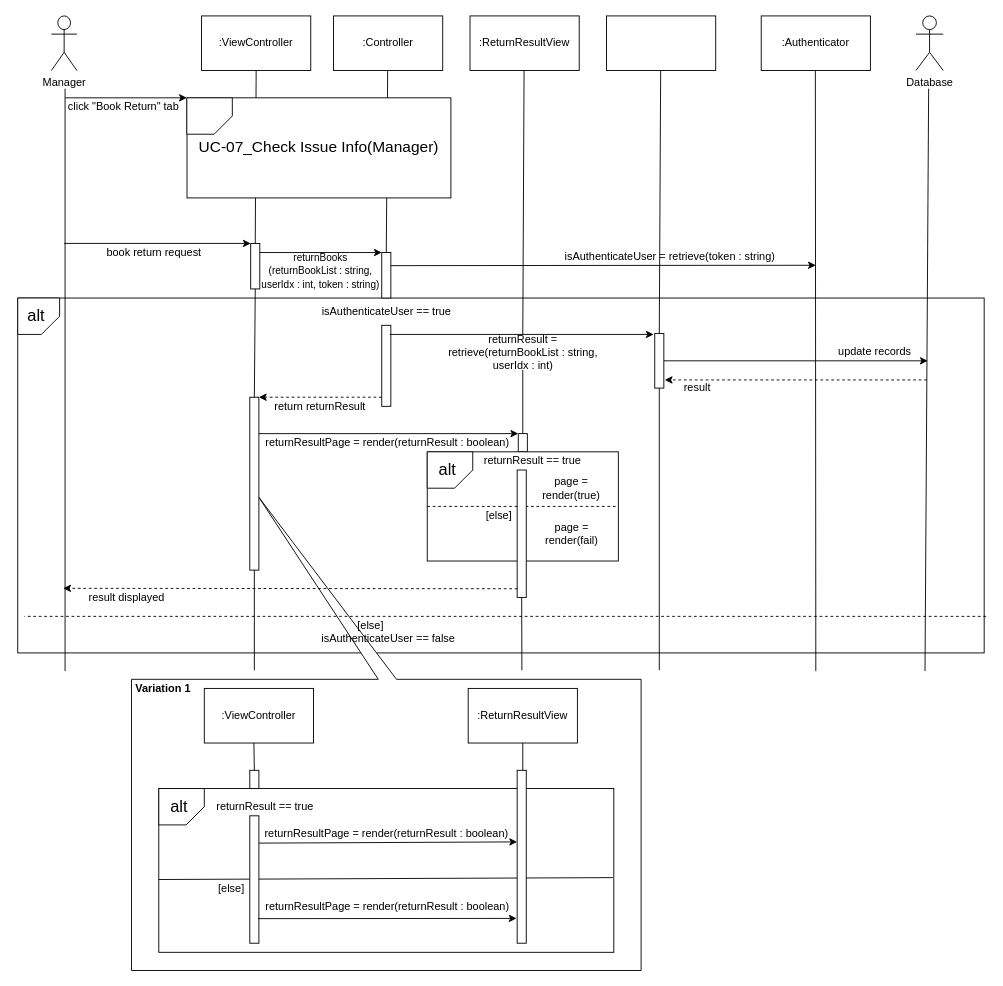
Image size: 1003x986. Some labels were removed from this diagram. Here are the shapes that lost their labels. From the top down, the box of each, then its label:
(606, 15, 716, 71): :DatabaseConnection
(186, 97, 232, 134): ref
